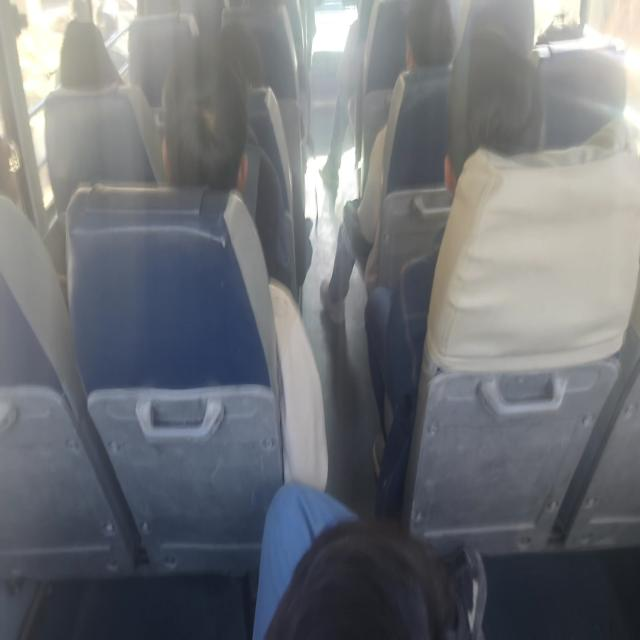person: (364, 1, 544, 514), (160, 38, 328, 491), (319, 0, 456, 324), (252, 481, 487, 638), (160, 39, 297, 295), (43, 18, 157, 215), (444, 0, 544, 191), (319, 0, 409, 191)
